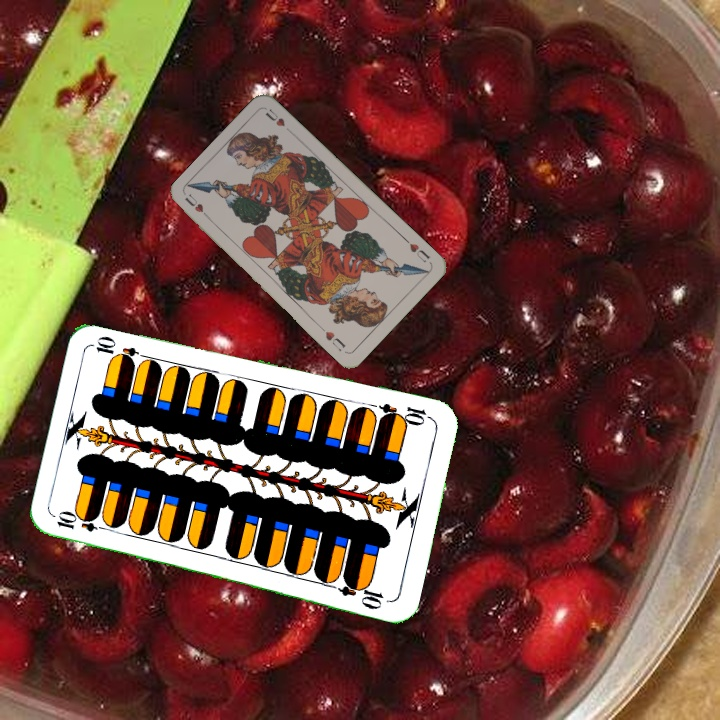E10: (376, 399, 435, 429), (52, 512, 112, 535)
HU: (181, 190, 214, 223), (400, 234, 433, 265)
